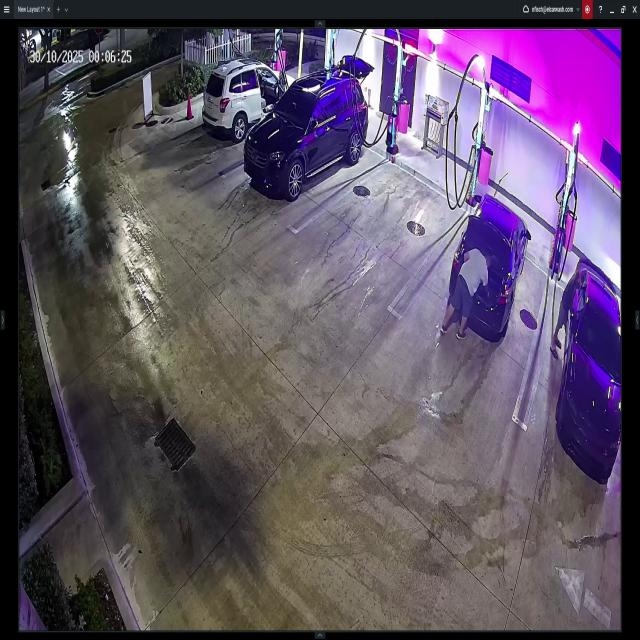Car: (246, 57, 374, 197), (559, 260, 620, 474), (448, 195, 528, 333), (204, 58, 297, 133)
